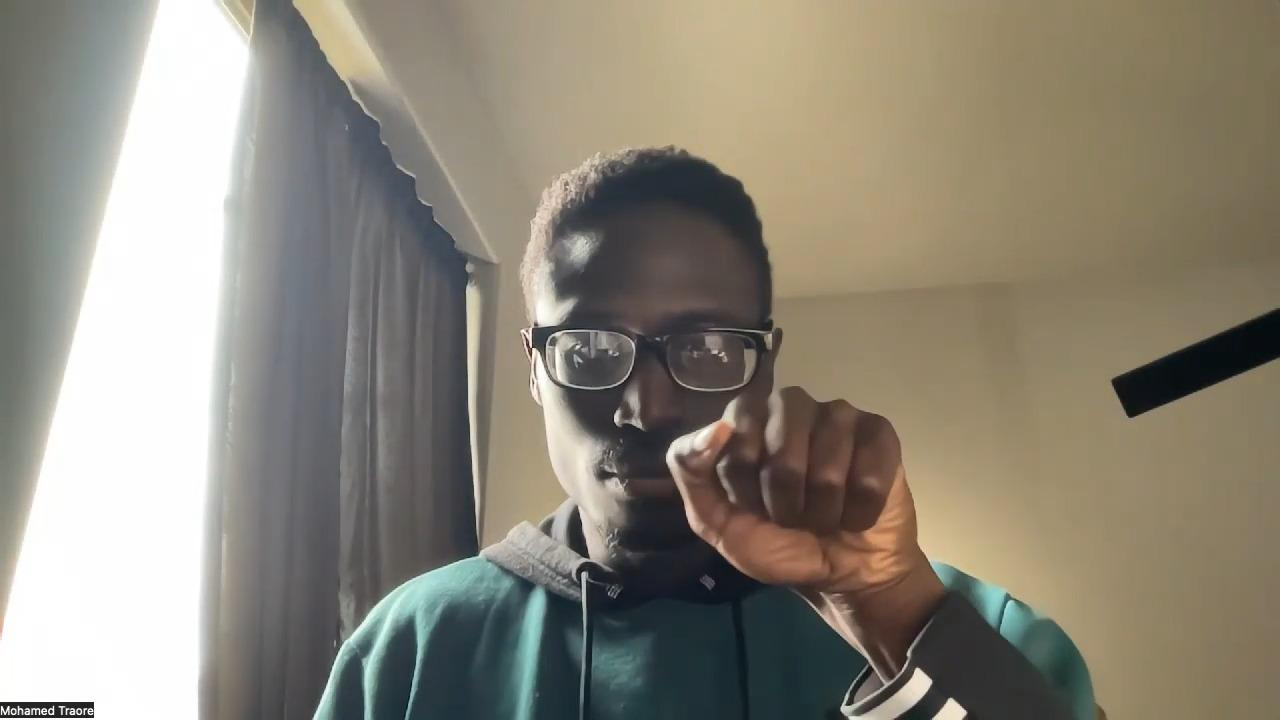Rock: (667, 383, 916, 593)
